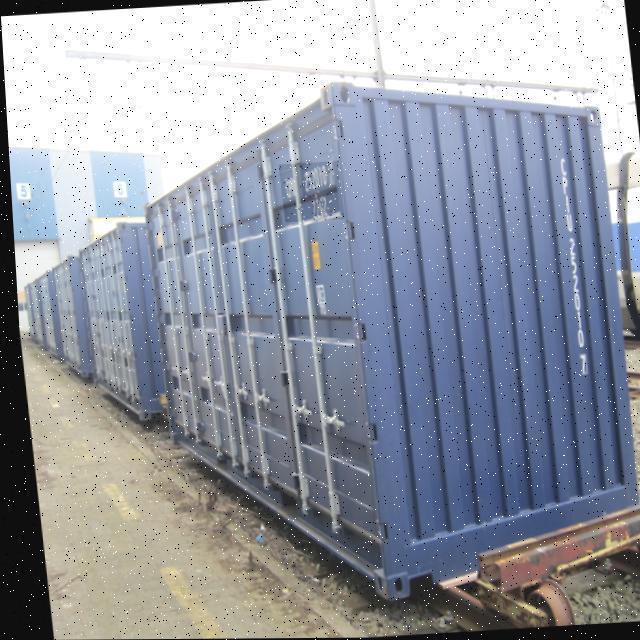container_number_h: (277, 162, 342, 223)
